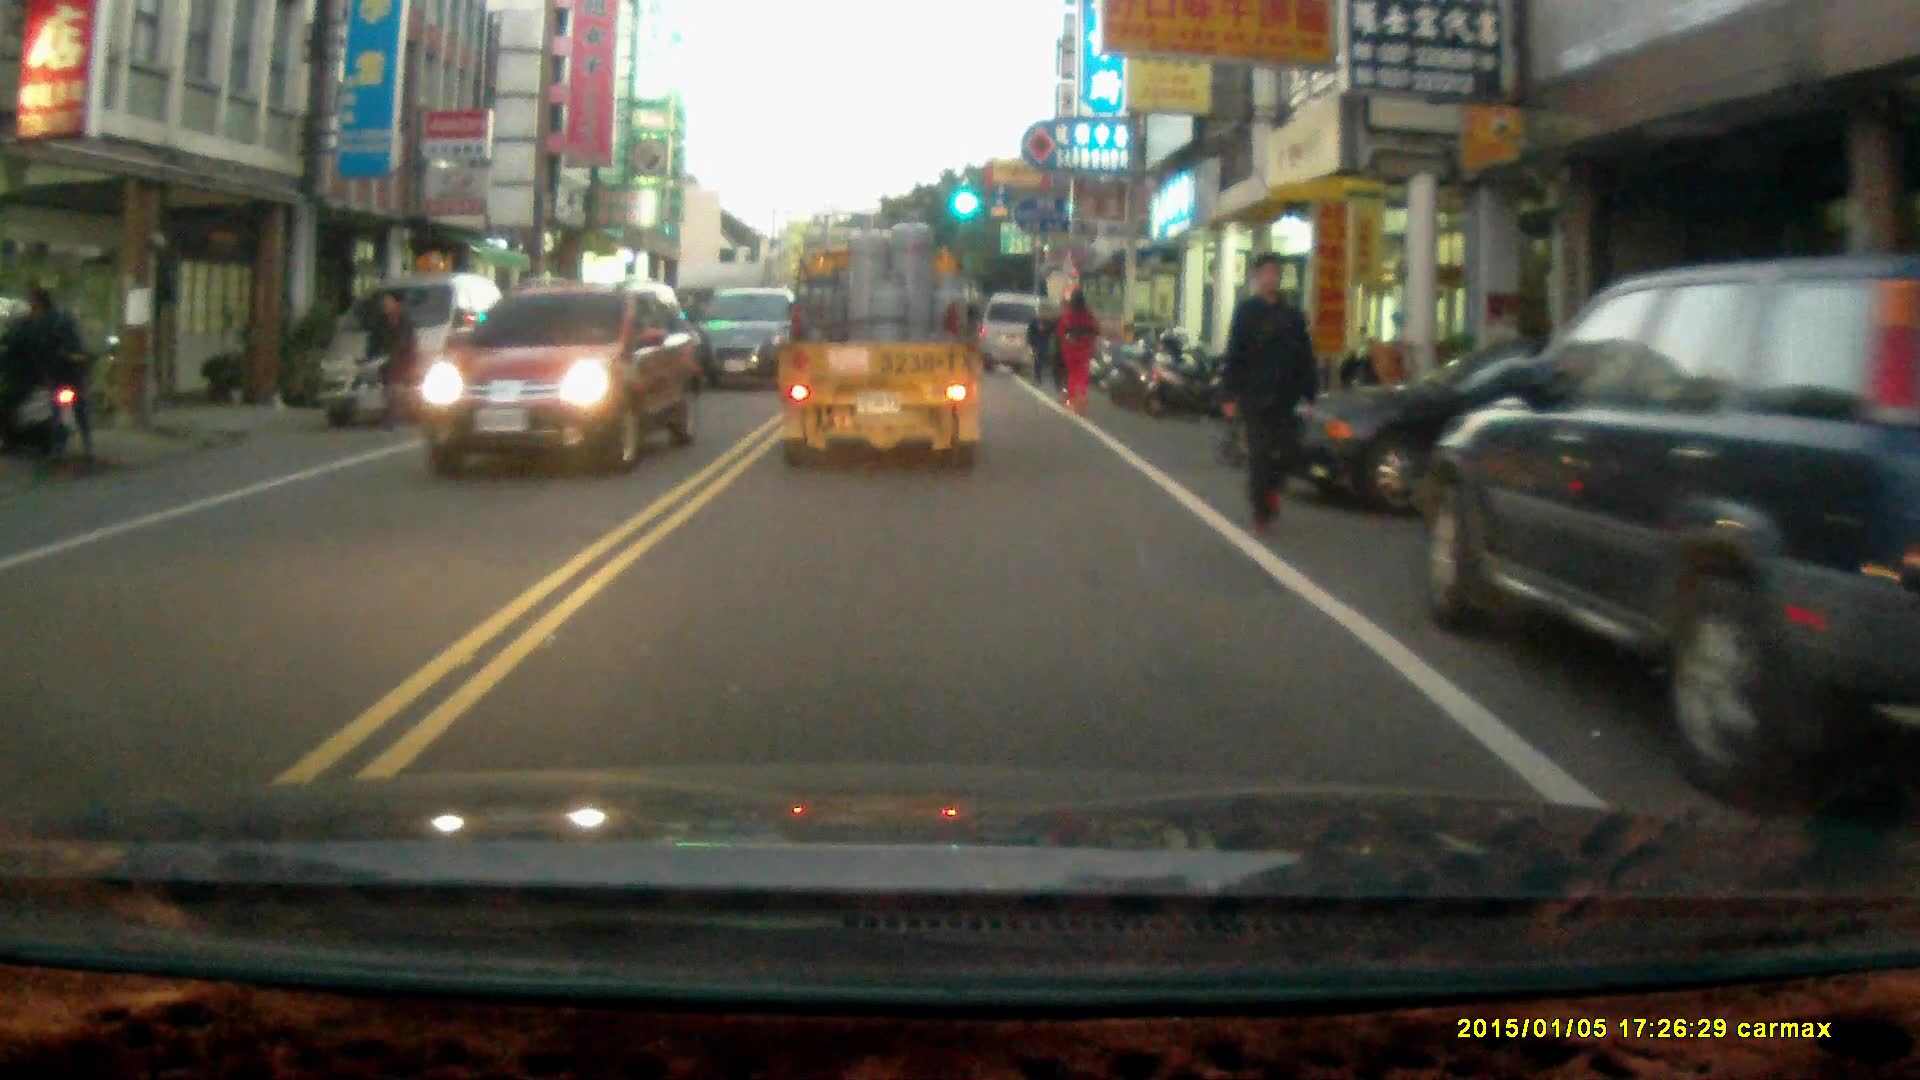pedestrian: (1221, 247, 1318, 537), (29, 279, 103, 465), (364, 288, 418, 434), (1055, 280, 1096, 409), (1025, 299, 1057, 383)
rider: (0, 291, 81, 459)
vehicle: (1412, 252, 1920, 816), (1290, 338, 1760, 510), (409, 281, 704, 473), (775, 208, 984, 477), (321, 275, 503, 424), (692, 281, 795, 391), (984, 290, 1063, 378)
